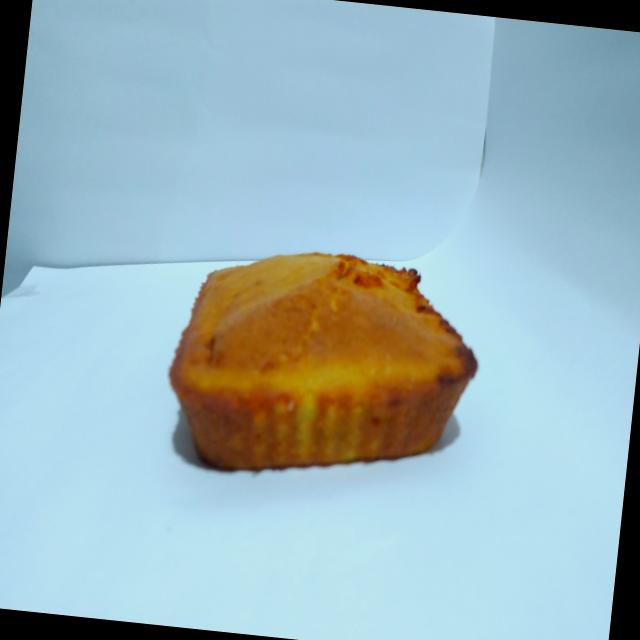Sopa: (148, 221, 494, 501)
